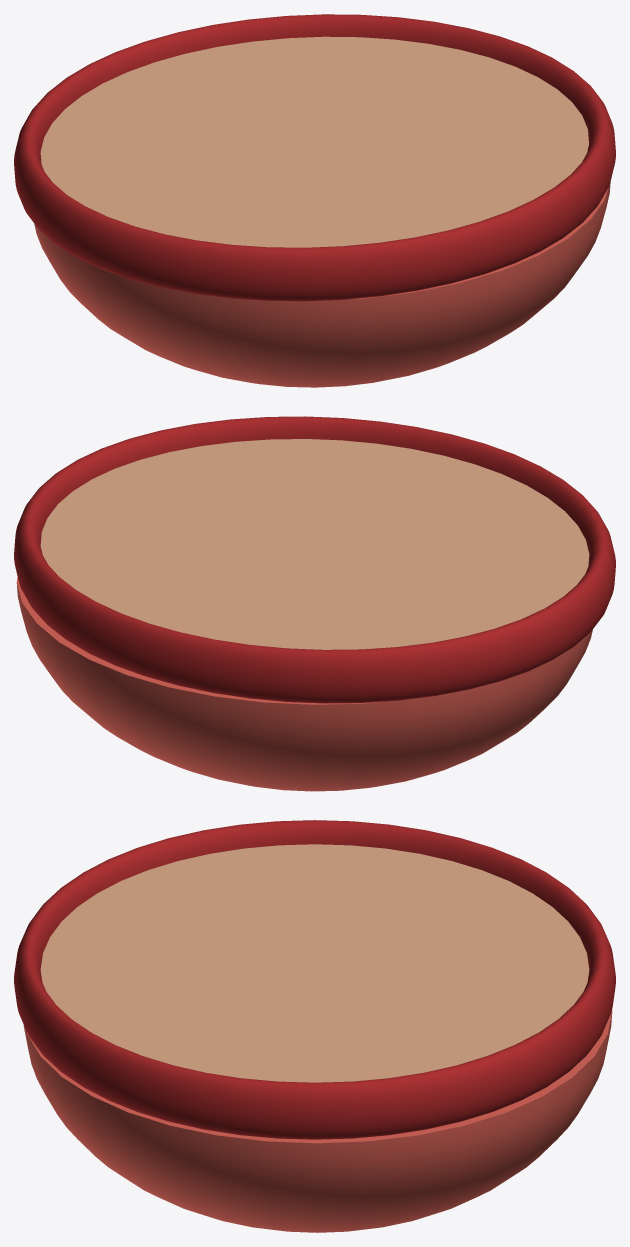
Rendered from red_bowl-CByZH2rd.glb.
3 renders of one model, top to bottom at view 1: azimuth 30°, elevation 25°; view 2: azimuth 150°, elevation 25°; view 3: azimuth 270°, elevation 25°, orthographic. The views are drawn at different scales.
Parts seen in each view (by area): view 1: Object_2, Object_8, Object_9; view 2: Object_2, Object_8, Object_9; view 3: Object_2, Object_8, Object_9.
Boxes of the visible parts, <box> form: Object_2: <box>40,36,588,247</box>; Object_8: <box>14,14,615,301</box>; Object_9: <box>34,150,610,387</box>; Object_2: <box>40,439,589,649</box>; Object_8: <box>14,416,615,703</box>; Object_9: <box>16,577,592,791</box>; Object_2: <box>40,844,589,1082</box>; Object_8: <box>14,820,615,1139</box>; Object_9: <box>23,1010,612,1232</box>.
Bounding box in the file's own units: 0.1928 × 0.0764 × 0.1783.
